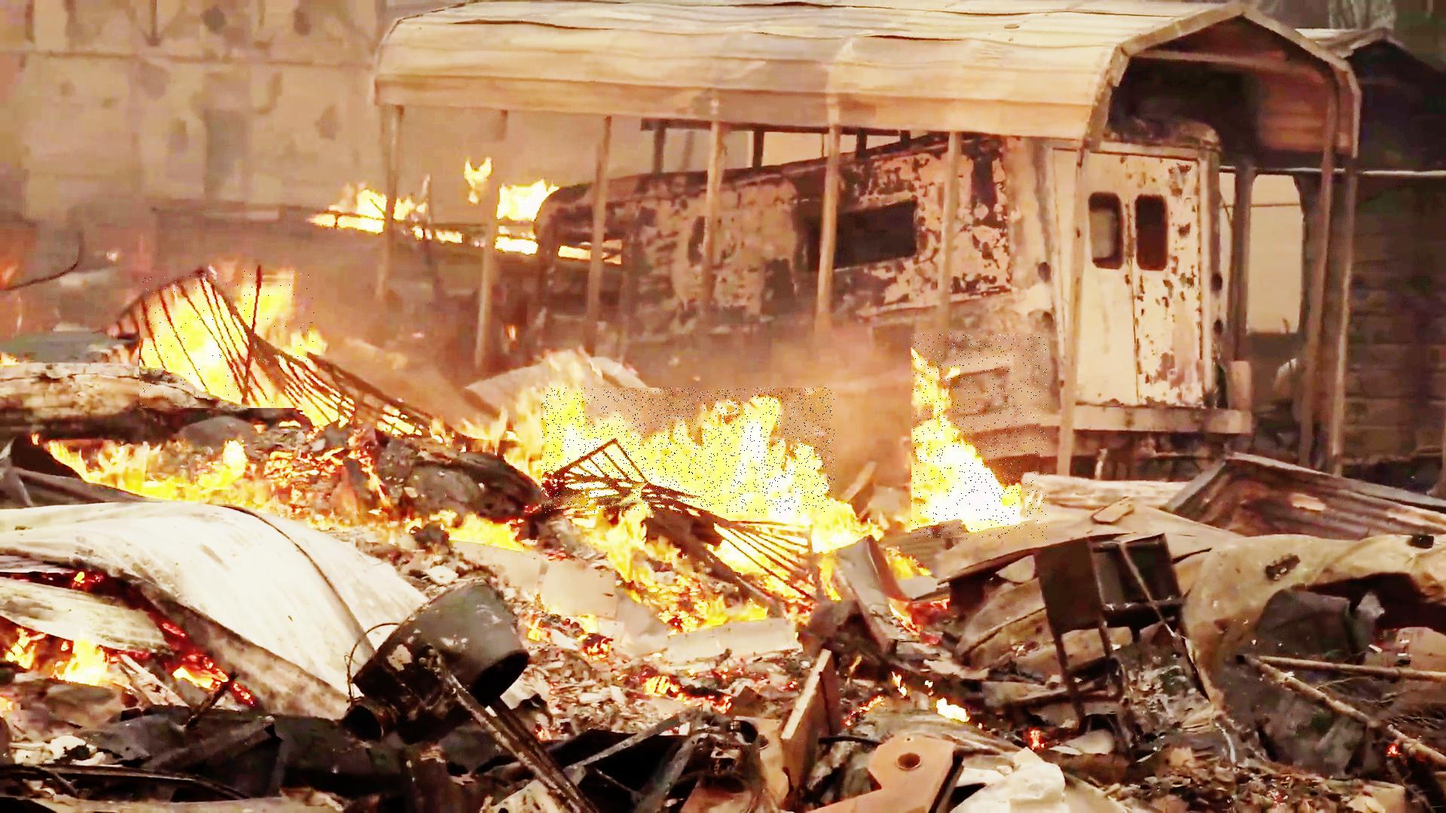fire: (542, 388, 834, 513), (912, 334, 1047, 539), (139, 271, 315, 408)
